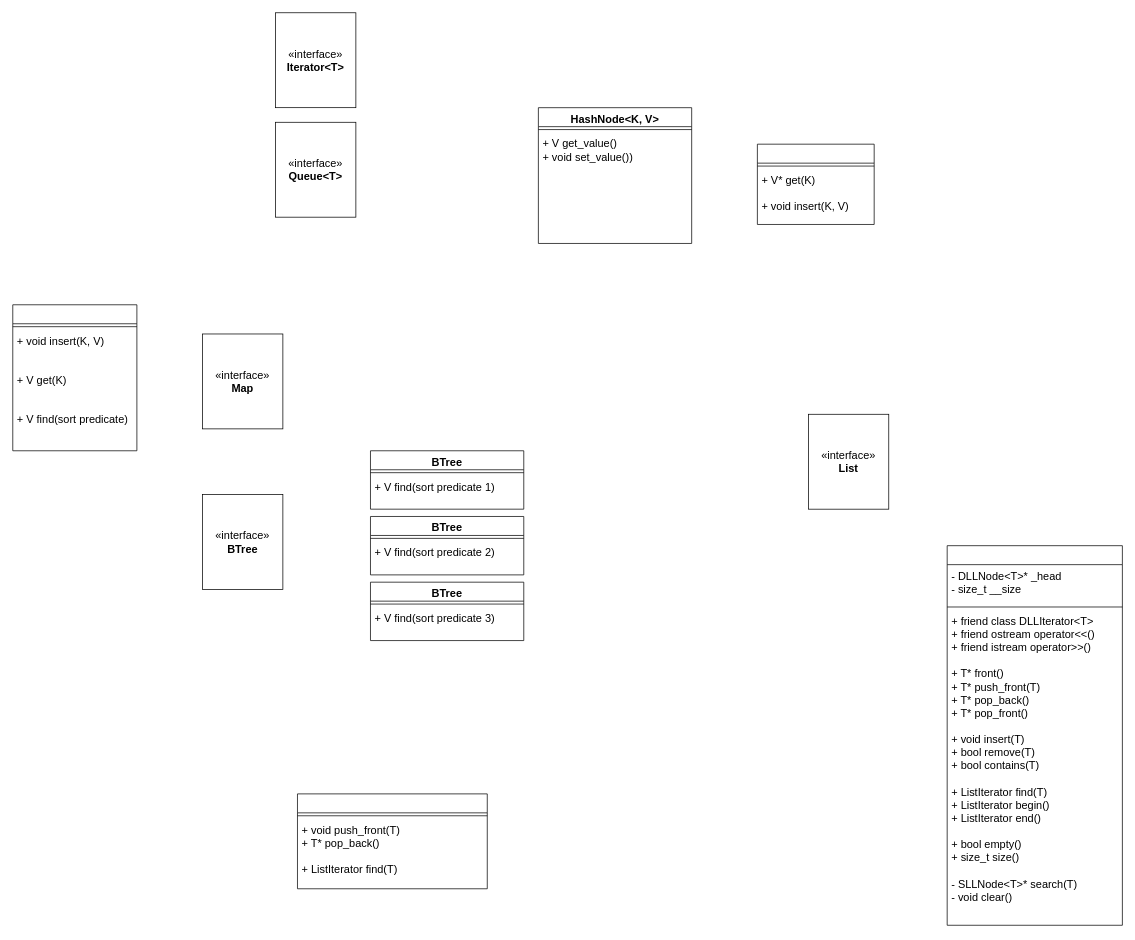
The diagram is 1135 pixels wide and 940 high, and some of its shapes have lost their labels. The shapes that lost their labels are listed below. From the top down, each one's box as (x1, y1, x2, y2) in pixels, then its label:
(757, 143, 874, 224): (Chained) HashMap
(12, 304, 137, 451): (LRU) CacheManager
(946, 545, 1122, 925): SinglyLinkedList<T>
(297, 793, 487, 889): DoublyLinkedList<T>
